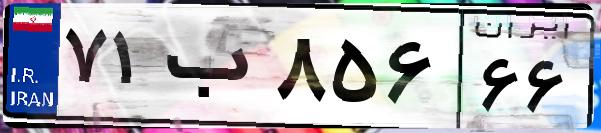1: (110, 28, 158, 98)
5: (330, 28, 385, 110)
6: (385, 28, 445, 110), (475, 38, 525, 113), (525, 38, 570, 115)
7: (57, 26, 110, 100)
8: (270, 28, 330, 110)
ب: (158, 20, 270, 120)
